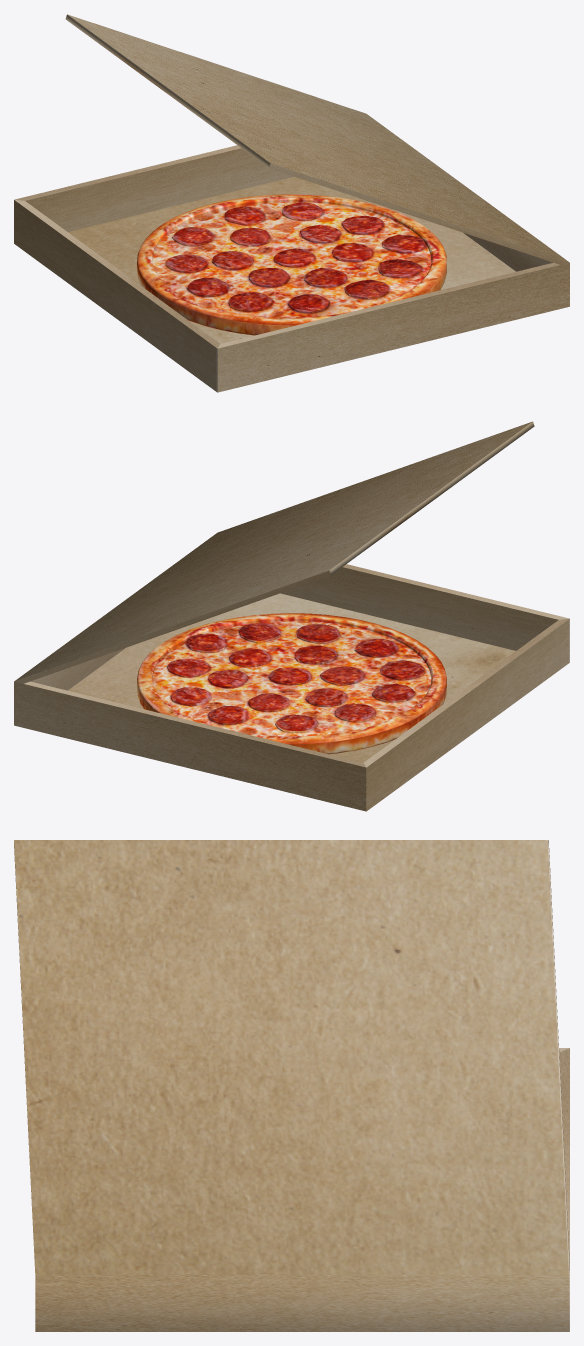
File: PizzaPepperoni.fbx
3 renders of one model, top to bottom at view 1: azimuth 30°, elevation 25°; view 2: azimuth 150°, elevation 25°; view 3: azimuth 270°, elevation 25°, orthographic. The views are drawn at different scales.
Parts seen in each view (by area): view 1: PizzaBox, PizzaPizza; view 2: PizzaBox, PizzaPizza; view 3: PizzaBox.
Part boxes in pixels (left/top/right/bottom): PizzaBox: left=14, top=14, right=569, bottom=392; PizzaPizza: left=137, top=194, right=446, bottom=335; PizzaBox: left=14, top=421, right=569, bottom=811; PizzaPizza: left=137, top=613, right=446, bottom=754; PizzaBox: left=14, top=840, right=569, bottom=1331.
Size of the model in its own units: 349 by 212 by 363.
Materials: 2 (2 with a texture image).
